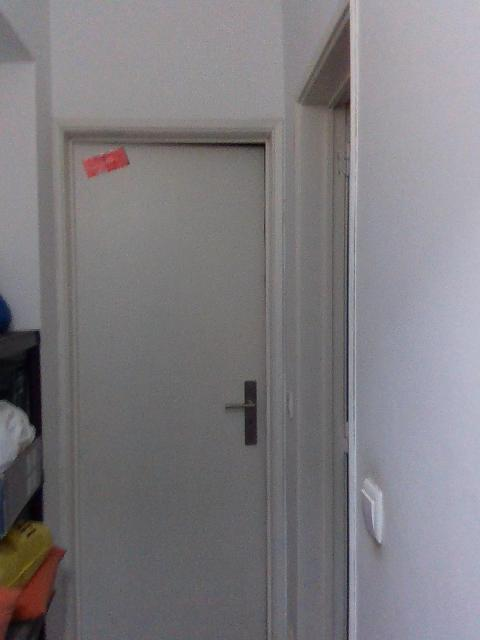door: (72, 144, 263, 640)
